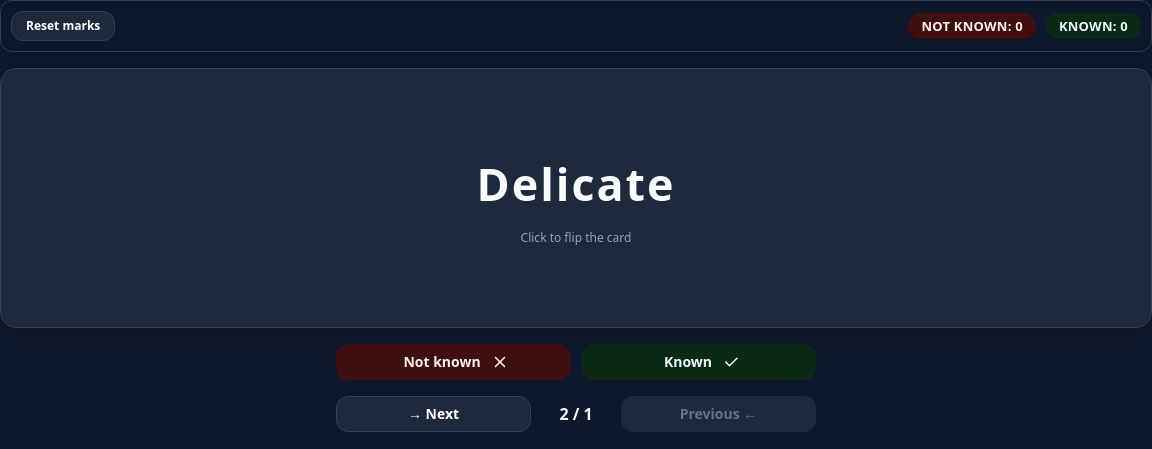
it: FlashcardsTab › clicking Not known auto-advances to the next card after a short delay
Click the button "Not known" at (453, 362), box [336,344,570,380]
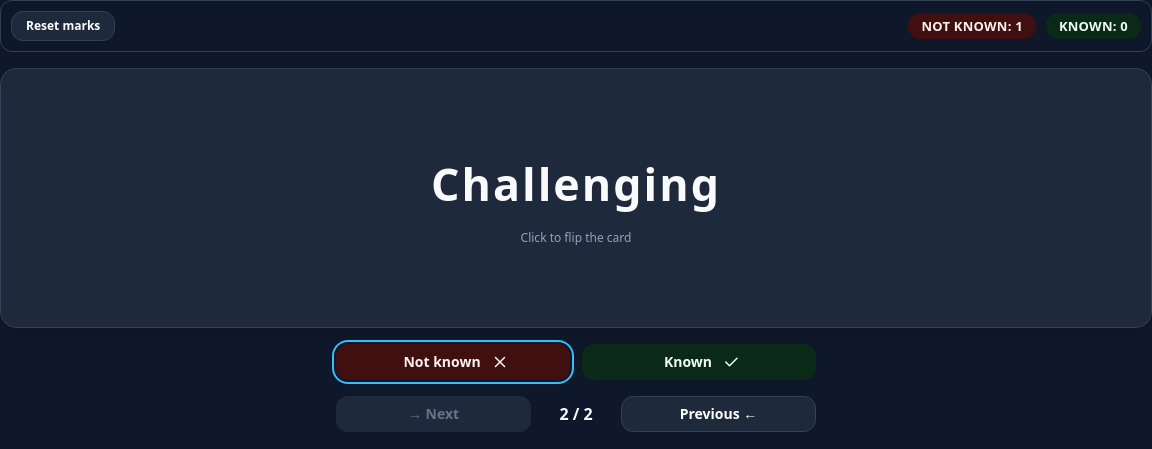
Expected: the text "Challenging" is shown, [431,149,721,218]
